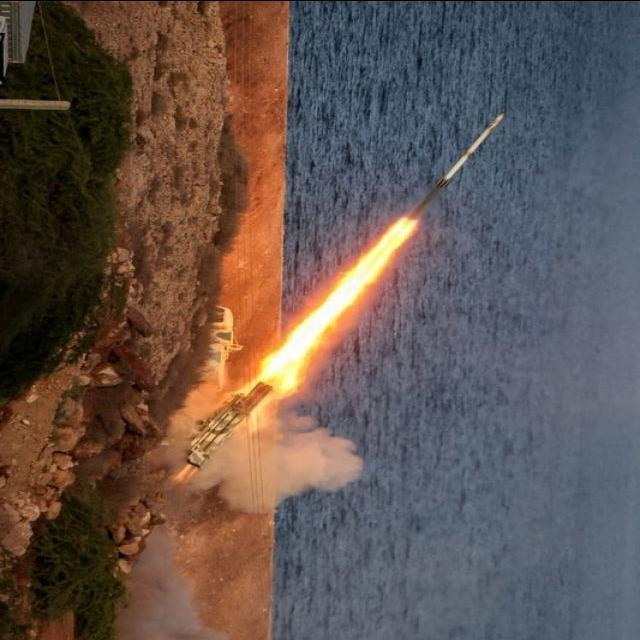missile: (400, 100, 520, 237)
